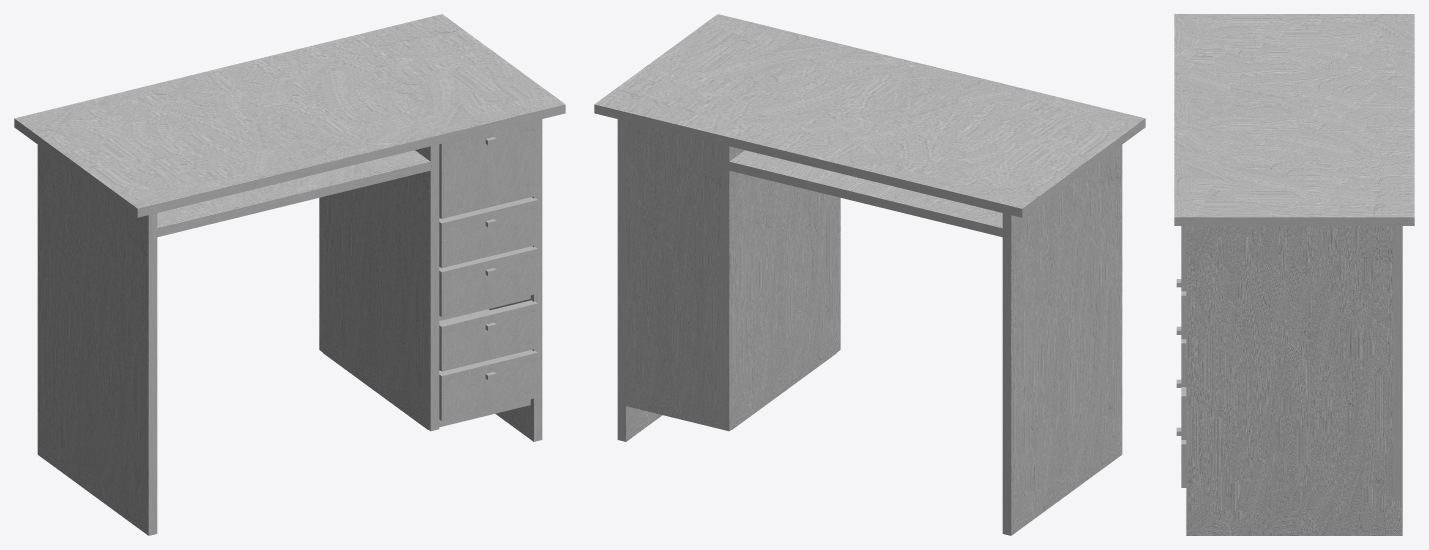
The model's file is Desk2.fbx.
3 renders of one model, left to right at view 1: azimuth 30°, elevation 25°; view 2: azimuth 150°, elevation 25°; view 3: azimuth 270°, elevation 25°, orthographic. The views are drawn at different scales.
Parts seen in each view (by area): view 1: node_id48 (×2), node_id45, node_id42, node_id18, node_id21, node_id9, node_id6, node_id15, node_id12, node_id39; view 2: node_id48 (×2), node_id45, node_id36, node_id42, node_id21; view 3: node_id48 (×2), node_id36, node_id18, node_id9, node_id15, node_id6, node_id12.
Part boxes in pixels (x1,y1,x2,y2): node_id48 (×2): [14, 14, 565, 441]; node_id45: [37, 145, 157, 535]; node_id42: [319, 144, 439, 431]; node_id18: [439, 120, 537, 218]; node_id21: [157, 150, 430, 237]; node_id9: [439, 300, 537, 371]; node_id6: [439, 349, 537, 420]; node_id15: [439, 197, 537, 267]; node_id12: [439, 246, 537, 316]; node_id39: [323, 353, 530, 429]; node_id48 (×2): [594, 14, 1145, 441]; node_id45: [1002, 145, 1122, 535]; node_id36: [626, 121, 720, 428]; node_id42: [720, 144, 840, 431]; node_id21: [729, 150, 1002, 237]; node_id48 (×2): [1174, 14, 1414, 535]; node_id36: [1393, 226, 1402, 500]; node_id18: [1181, 226, 1186, 291]; node_id9: [1176, 379, 1186, 439]; node_id15: [1176, 279, 1186, 339]; node_id6: [1176, 427, 1186, 487]; node_id12: [1176, 326, 1186, 386].
Bounding box in the file's own units: 0.512 × 0.384 × 0.256.
Materials: 30 (16 with a texture image).
